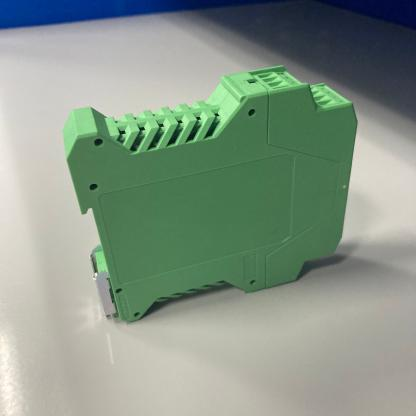SP0000011: (33, 58, 383, 343)
